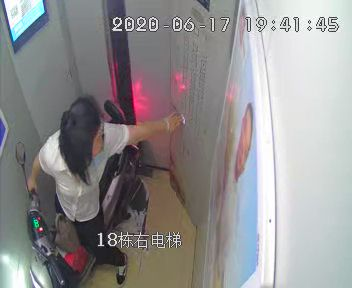Electric-bicycle: (14, 99, 127, 287)
